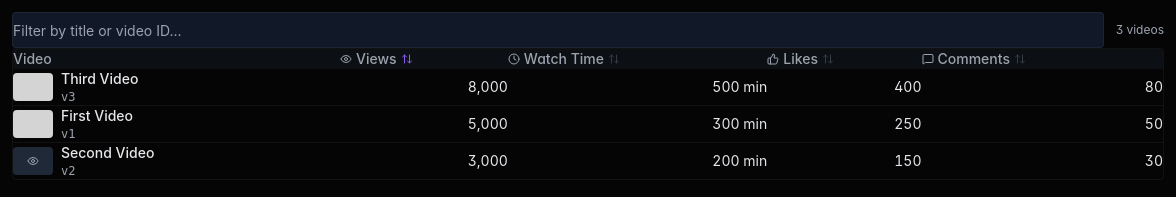
Test: VideoPerformanceTable › filters by title
Type "First" into the field with placeholder "Filter by title or video ID..." at (558, 30), box [12,12,1104,48]
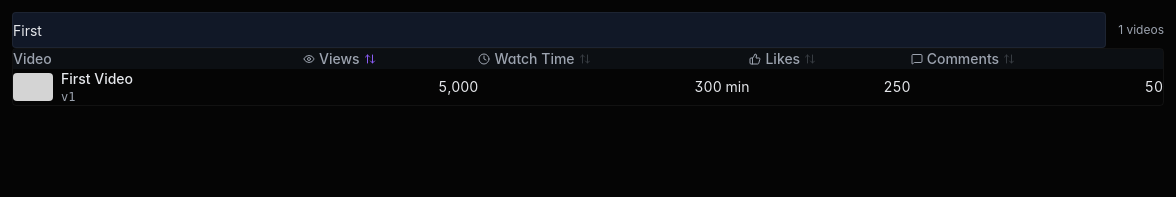
Expected: the text "First Video" is shown, [61,69,133,89]
Expected: the text "Second Video" is gone
